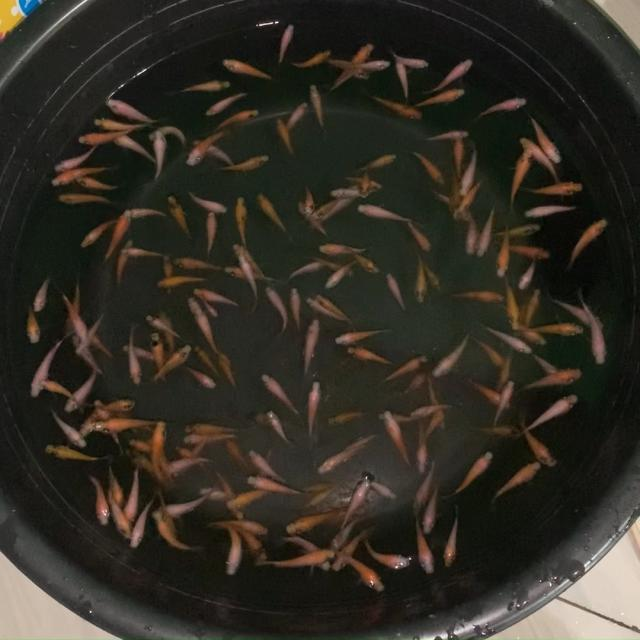nila: (521, 391, 584, 437), (314, 178, 371, 228), (516, 134, 570, 183), (488, 460, 543, 506), (576, 289, 609, 364), (446, 450, 496, 499), (325, 40, 371, 92), (335, 547, 386, 593), (30, 333, 64, 402), (566, 217, 609, 271), (280, 534, 334, 576), (154, 516, 209, 557), (545, 292, 604, 330), (330, 524, 374, 574), (474, 320, 539, 353), (262, 370, 303, 420), (382, 408, 414, 472), (284, 507, 348, 539), (187, 292, 219, 354), (520, 418, 560, 467), (127, 494, 158, 556), (430, 332, 470, 380), (516, 368, 582, 397), (424, 57, 473, 96), (94, 398, 126, 456), (104, 96, 170, 124), (52, 157, 108, 190), (255, 547, 332, 571), (230, 240, 272, 284), (328, 511, 367, 558), (70, 329, 108, 377), (74, 306, 111, 355), (373, 352, 423, 388), (57, 284, 88, 342), (508, 145, 534, 214), (417, 398, 452, 449), (112, 128, 158, 166), (530, 116, 564, 166), (324, 252, 366, 292), (153, 344, 195, 384), (130, 454, 172, 494), (412, 508, 437, 575), (146, 434, 182, 480), (62, 368, 97, 415), (161, 452, 215, 482), (73, 124, 140, 148), (364, 538, 410, 572), (342, 475, 372, 527), (336, 322, 396, 348), (468, 374, 511, 410), (104, 204, 132, 259), (107, 492, 137, 543), (187, 129, 226, 168), (356, 198, 414, 224), (454, 142, 480, 200), (474, 95, 526, 124), (44, 440, 102, 466), (50, 144, 100, 174), (408, 414, 432, 476), (161, 487, 214, 515), (194, 134, 233, 172), (260, 196, 293, 240), (452, 176, 484, 220), (316, 446, 360, 478), (411, 460, 437, 514), (218, 466, 244, 520), (53, 410, 88, 450), (222, 524, 246, 582), (142, 312, 188, 342), (263, 283, 289, 336), (246, 472, 301, 497), (373, 96, 426, 121), (90, 416, 156, 436), (250, 451, 290, 484), (431, 188, 472, 220), (191, 284, 243, 309), (153, 486, 178, 538), (474, 206, 501, 254), (86, 324, 121, 361), (472, 333, 506, 371), (222, 262, 278, 285), (178, 432, 210, 472), (493, 348, 516, 403), (170, 77, 230, 98), (296, 202, 331, 238), (306, 294, 348, 324), (210, 515, 270, 536), (348, 344, 396, 370), (122, 338, 170, 364), (154, 412, 170, 490), (324, 53, 370, 80), (212, 105, 258, 132), (54, 190, 122, 208), (80, 216, 116, 250), (75, 170, 122, 196), (490, 379, 516, 426), (342, 431, 379, 464), (237, 528, 270, 565), (521, 199, 579, 220), (186, 188, 231, 215), (221, 59, 276, 81), (302, 320, 322, 380), (150, 331, 170, 391), (38, 374, 78, 404), (126, 322, 144, 388), (350, 239, 382, 276), (282, 258, 324, 286), (222, 152, 273, 175), (444, 505, 462, 570), (318, 292, 357, 322), (206, 89, 246, 118), (195, 483, 250, 504), (520, 320, 584, 338), (176, 444, 212, 476), (166, 192, 191, 238), (308, 253, 358, 276), (237, 252, 259, 304), (416, 88, 467, 110), (225, 486, 268, 512), (65, 281, 83, 343), (112, 236, 134, 286), (421, 484, 442, 536), (246, 406, 293, 429), (172, 254, 226, 274), (123, 466, 143, 520), (428, 379, 448, 432), (412, 148, 444, 181), (526, 180, 584, 198), (512, 322, 552, 348), (458, 211, 480, 258), (495, 223, 513, 280), (89, 472, 108, 526), (306, 380, 322, 444), (386, 268, 408, 314), (31, 272, 54, 316), (504, 240, 552, 261), (326, 404, 368, 428), (106, 459, 126, 509), (392, 57, 414, 102), (267, 408, 293, 446), (448, 290, 506, 307), (502, 282, 522, 331), (158, 306, 178, 355), (488, 222, 542, 240), (156, 272, 210, 290), (275, 22, 296, 68), (517, 250, 540, 292), (312, 191, 344, 221), (398, 370, 430, 400), (468, 422, 521, 440), (94, 114, 150, 131), (414, 252, 431, 308), (76, 407, 104, 441), (525, 283, 548, 324), (352, 152, 399, 172), (408, 218, 434, 254), (293, 45, 333, 68), (144, 122, 190, 142), (409, 402, 455, 422), (151, 130, 168, 184), (184, 364, 218, 391), (348, 169, 386, 193), (226, 438, 251, 474), (192, 342, 220, 374), (342, 56, 391, 74), (391, 49, 433, 70), (298, 490, 338, 512), (310, 83, 329, 129), (235, 190, 249, 252), (366, 474, 397, 502), (177, 432, 239, 446), (91, 392, 138, 410), (317, 241, 373, 256), (446, 162, 462, 213), (24, 304, 43, 346), (286, 100, 308, 136), (422, 258, 443, 294), (220, 352, 240, 389), (116, 242, 162, 258), (204, 210, 218, 262), (530, 350, 558, 376), (123, 203, 168, 219), (332, 182, 372, 200), (160, 251, 176, 296), (276, 118, 294, 156), (376, 408, 414, 426), (183, 422, 240, 434), (128, 434, 158, 456), (452, 133, 466, 177), (300, 174, 314, 217), (290, 284, 302, 334), (360, 156, 373, 202), (201, 295, 220, 321), (293, 482, 340, 492), (425, 130, 473, 139)
